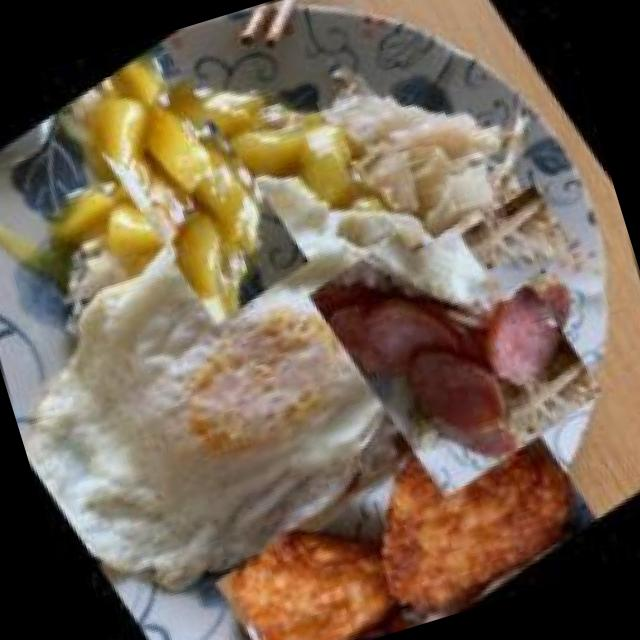chinese_cabbage: (300, 9, 554, 273)
chinese_sausage: (276, 162, 636, 522)
curry: (14, 2, 348, 338)
fried_eggs: (0, 87, 528, 640)
mung_bean_sprouts: (452, 174, 588, 310)
rice: (23, 218, 152, 340)
triangle_hash_brown: (175, 355, 616, 640)
